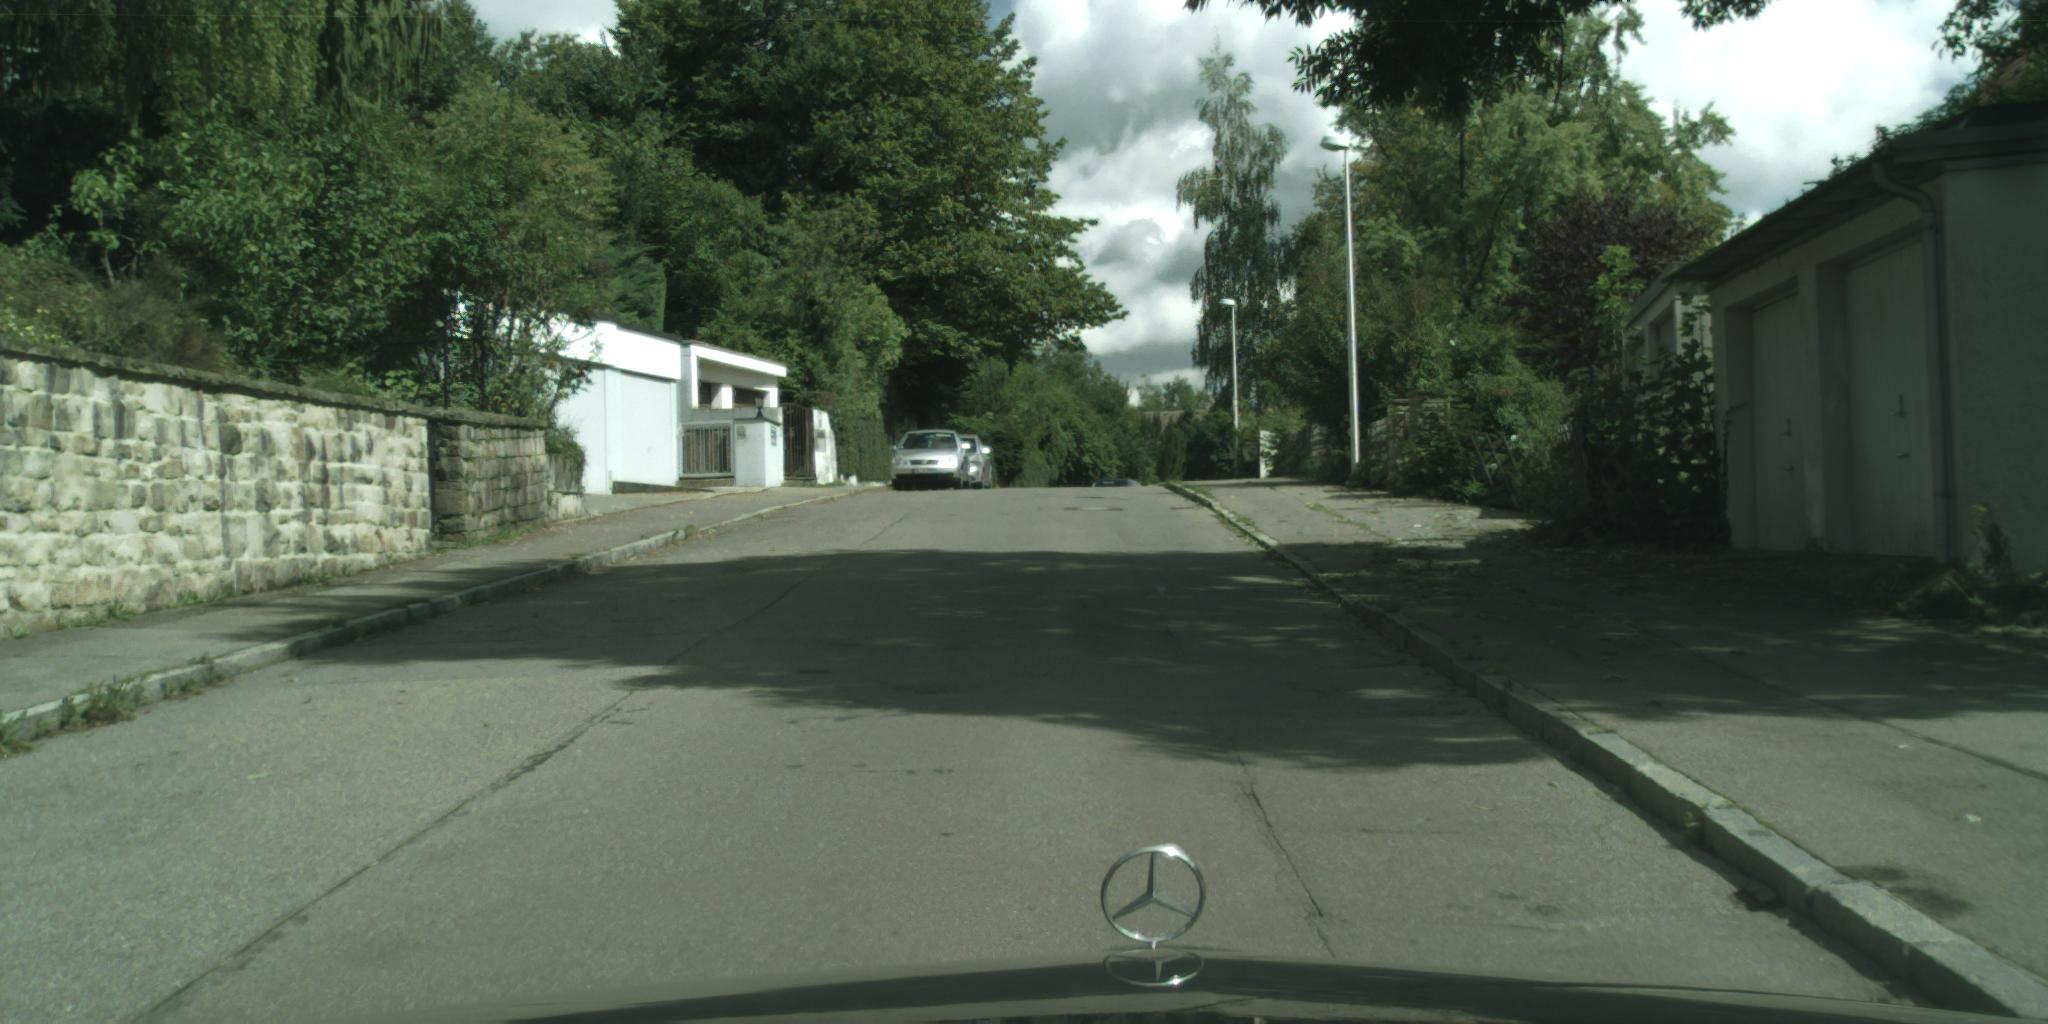car: (891, 430, 973, 492), (955, 435, 994, 491), (1089, 479, 1144, 495)
